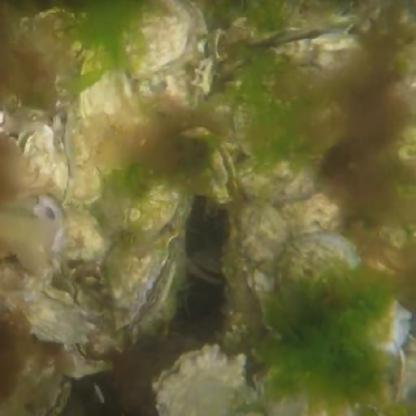3: (107, 231, 177, 337), (96, 169, 194, 243), (154, 342, 251, 416), (174, 129, 241, 206), (268, 25, 359, 61), (34, 364, 75, 416), (186, 257, 225, 285)
Oyster-Closed: (118, 3, 187, 76)
Oyster-Open: (75, 74, 128, 147), (33, 284, 94, 347), (19, 124, 68, 202), (279, 198, 340, 239)
